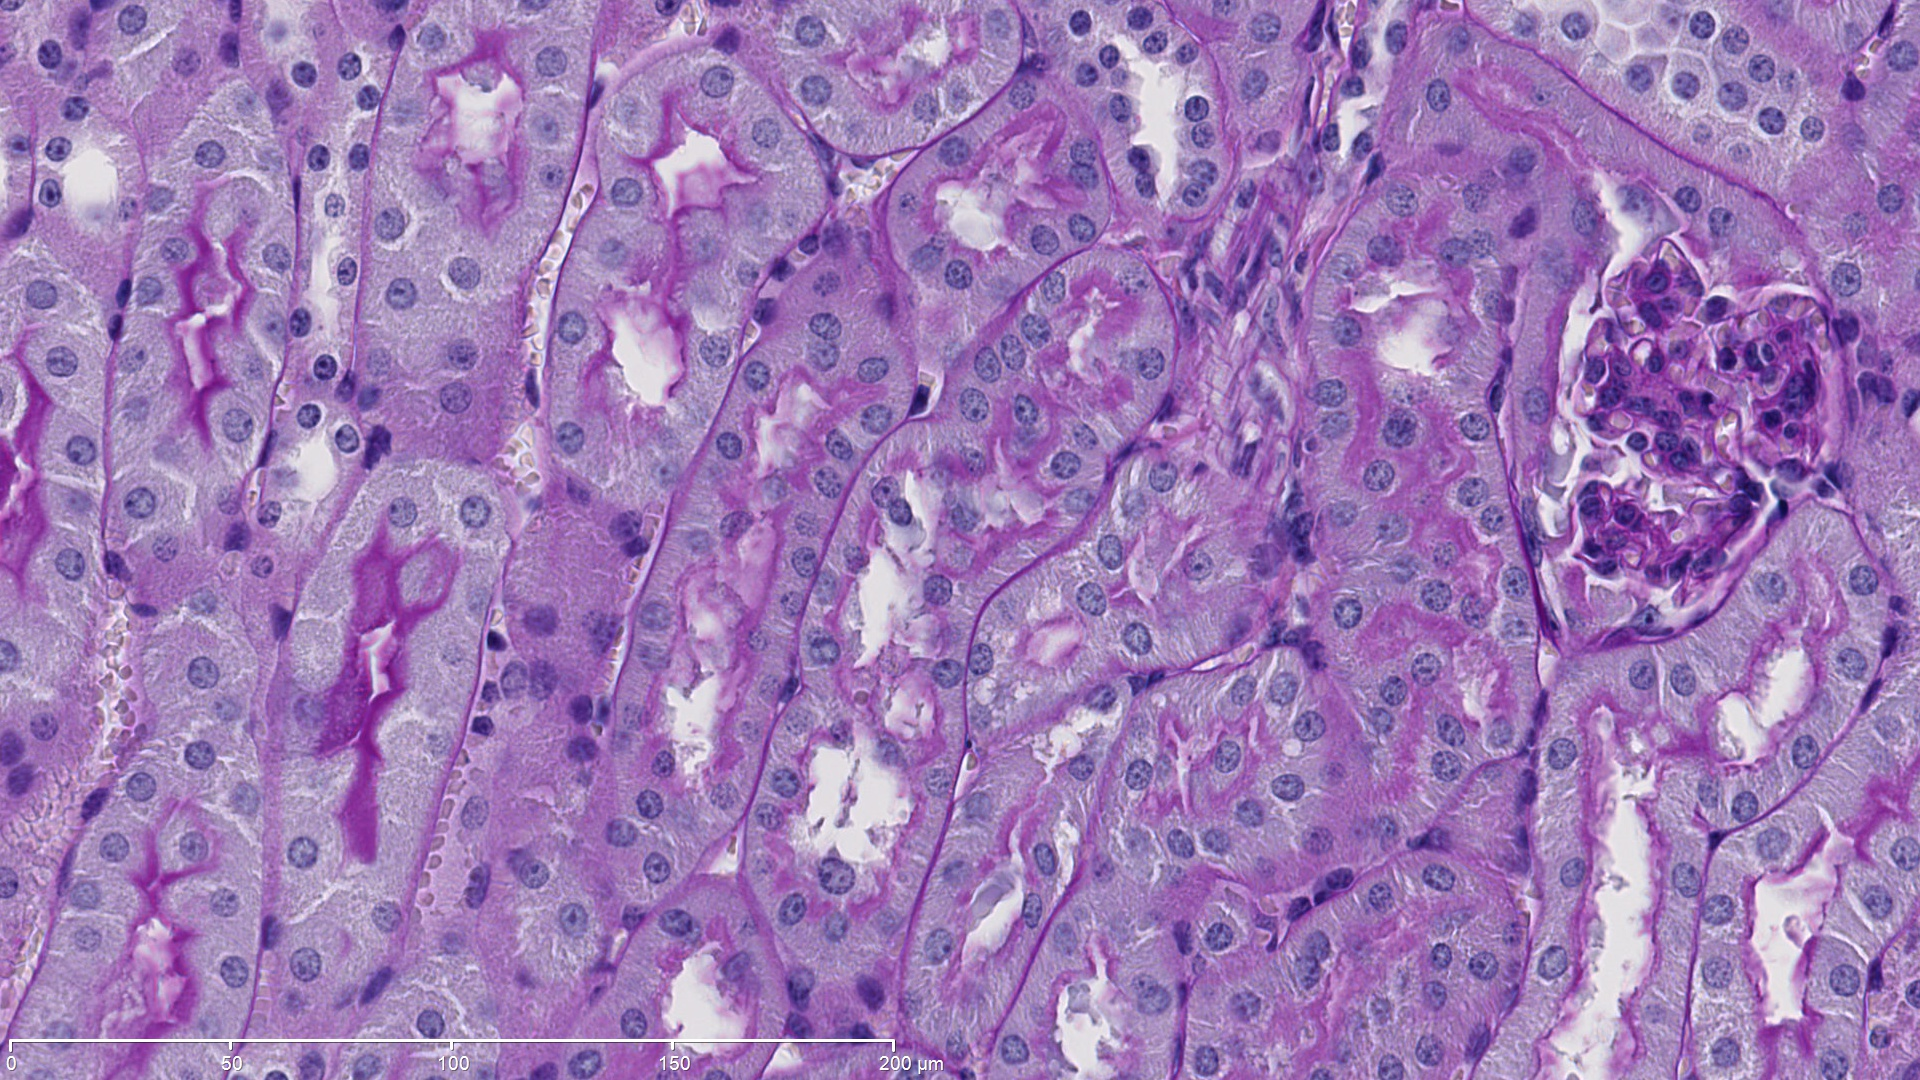Glomeruli: (1547, 227, 1844, 596)
